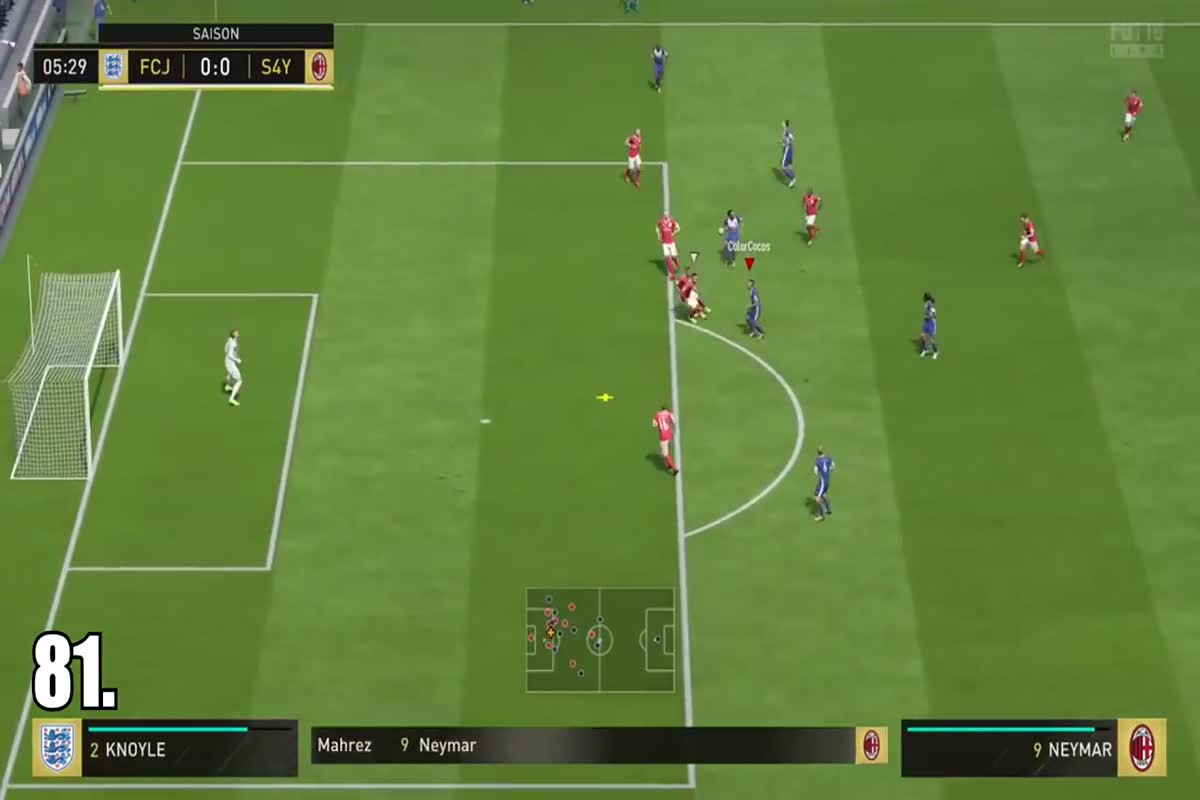ball: (712, 223, 730, 238)
